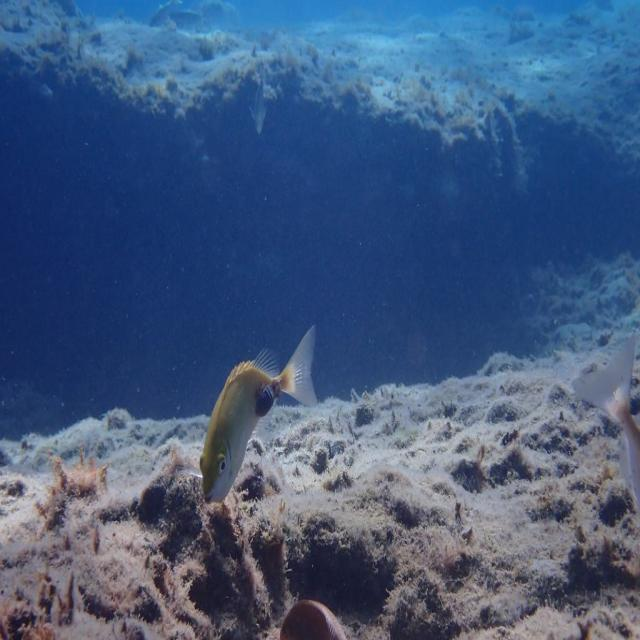Sokar Baligi: (194, 308, 328, 520)
